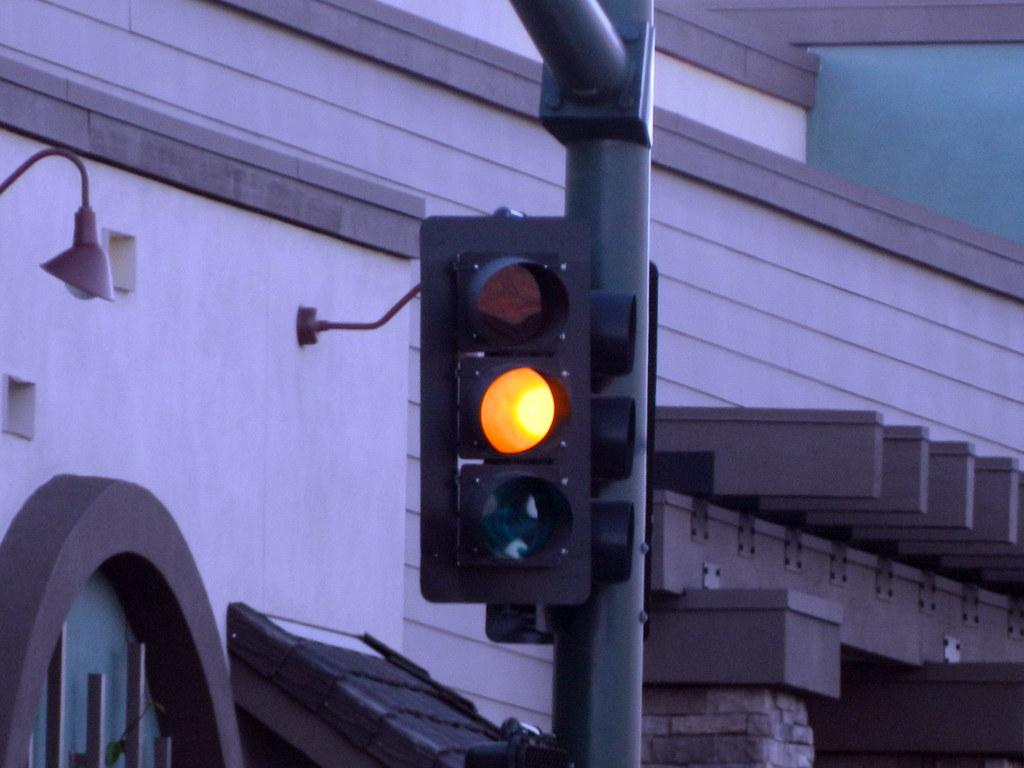yellow_light: (421, 217, 592, 603)
